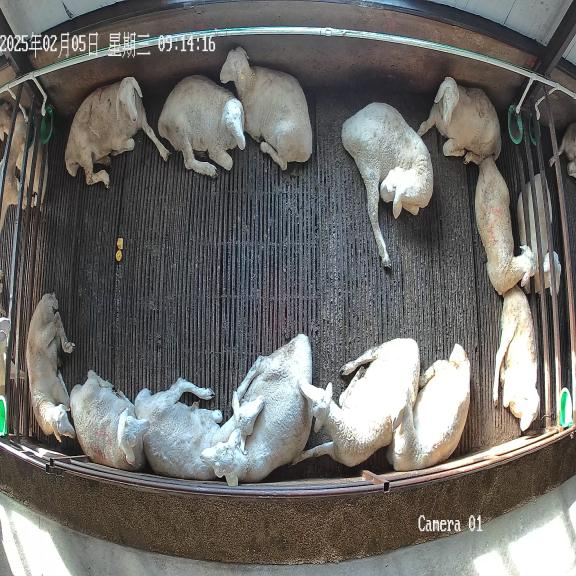lying: (200, 334, 312, 485), (293, 338, 419, 466), (341, 102, 433, 268), (134, 378, 265, 480), (65, 77, 169, 187), (220, 47, 312, 170), (386, 344, 470, 471), (158, 75, 245, 177), (475, 158, 536, 294), (70, 370, 150, 471), (26, 294, 76, 441), (418, 77, 501, 164), (493, 288, 540, 431)
